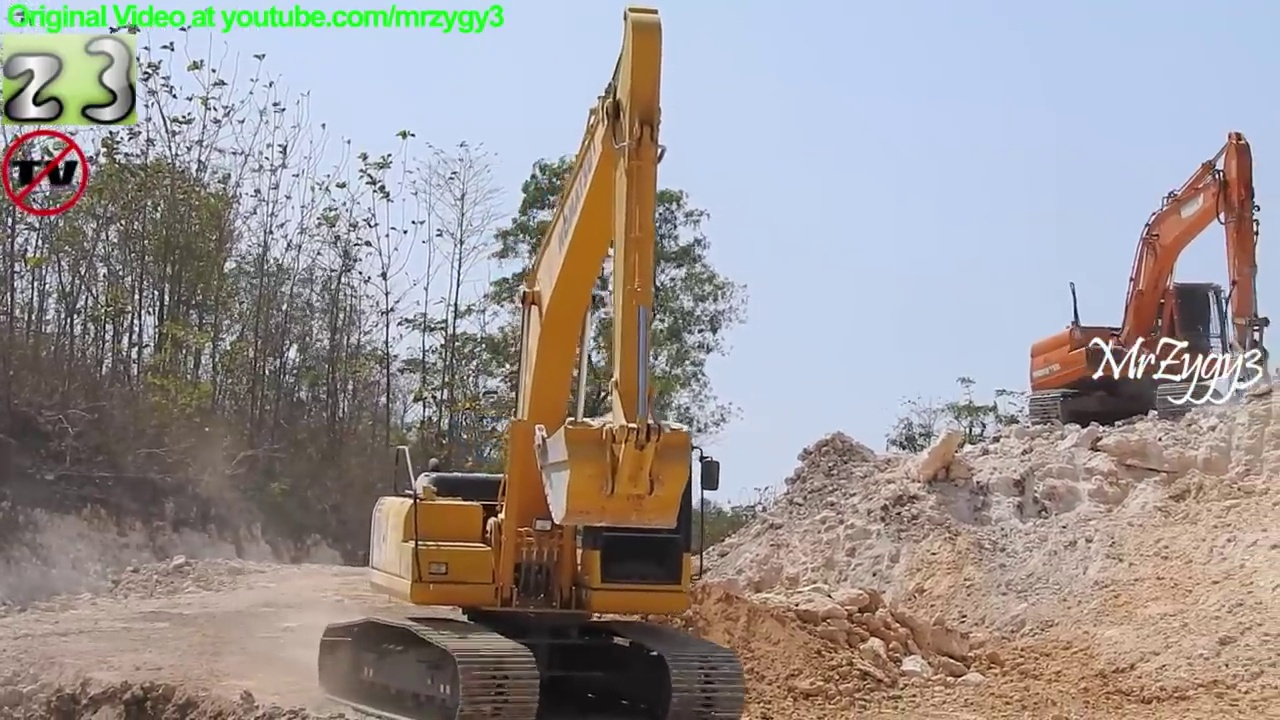excavator: (313, 6, 761, 720)
excavator breaker: (1027, 128, 1277, 443)
